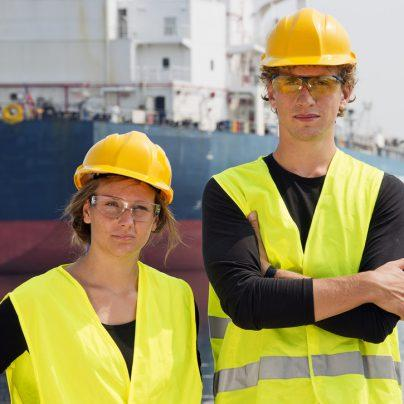helmet: (75, 130, 175, 207), (262, 7, 359, 73)
